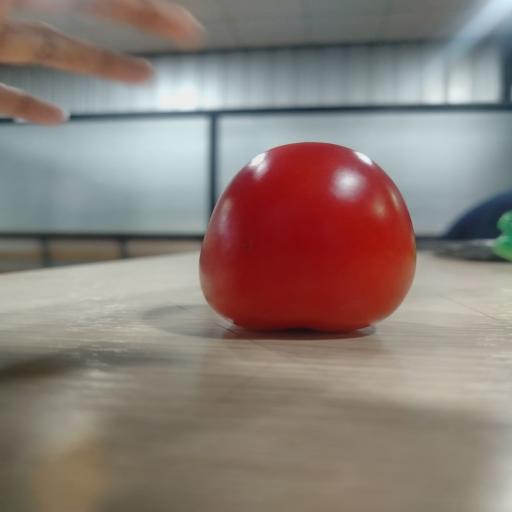ripe: (200, 142, 416, 331)
